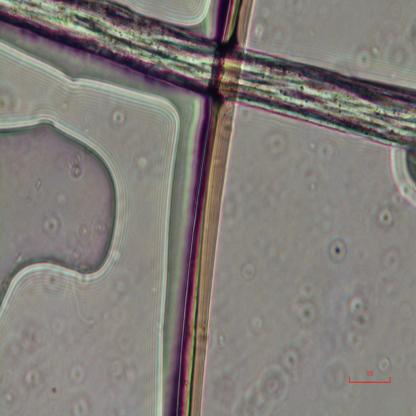Air bubble: (0, 41, 176, 414)
Background material: (238, 345, 300, 415), (47, 269, 102, 328), (340, 293, 376, 360), (296, 137, 336, 197), (117, 324, 146, 385), (387, 146, 416, 206), (292, 275, 321, 327), (128, 143, 158, 184), (384, 36, 414, 73), (264, 124, 290, 159), (40, 209, 64, 242), (354, 44, 380, 70), (327, 236, 349, 265), (21, 365, 44, 392), (67, 359, 87, 389), (241, 314, 264, 338), (377, 204, 396, 231), (382, 248, 402, 273), (238, 260, 258, 282), (110, 104, 127, 128)
Microfibre: (0, 1, 416, 153), (173, 0, 255, 416)
